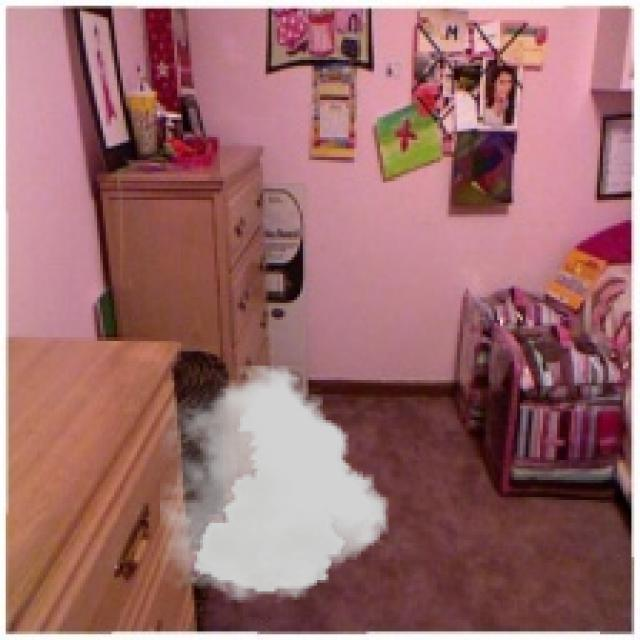Smoke: (160, 366, 389, 603)
